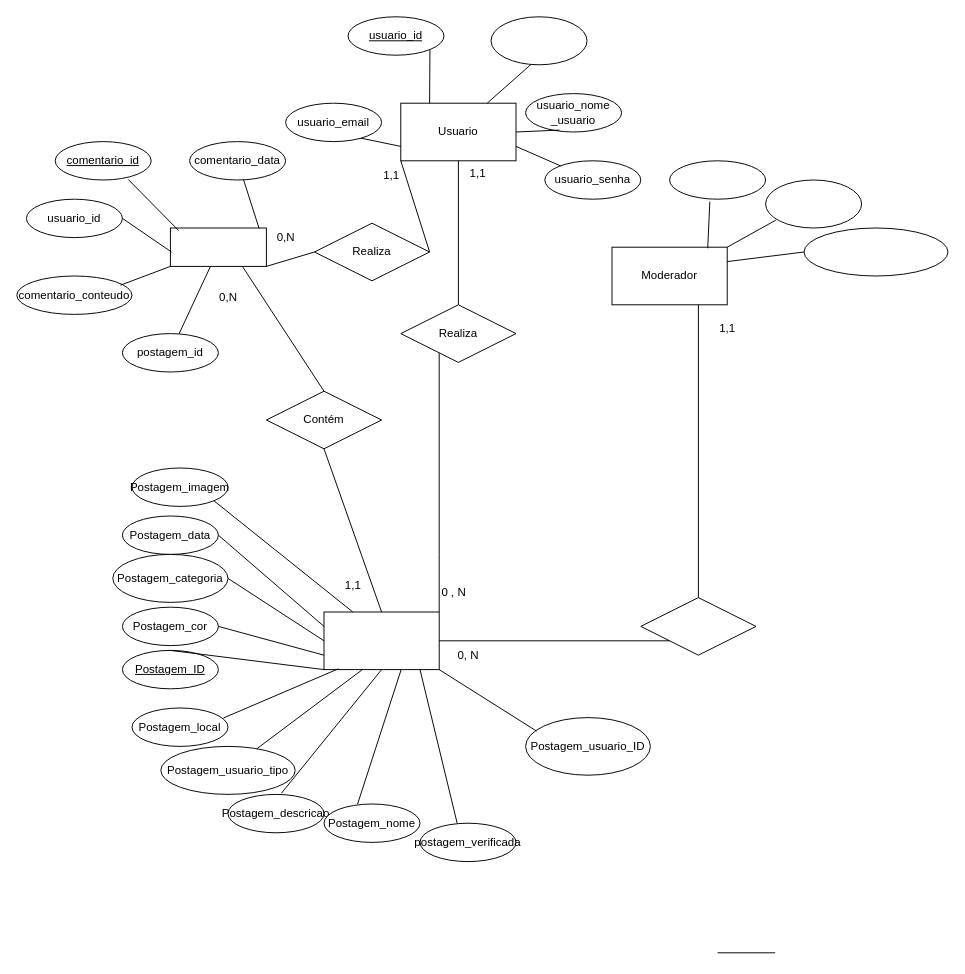
Image size: 965x974. Some labels were removed from this diagram. The shapes that lost their labels are listed below. From the top down, each one's centre as x and y in pixels, then its label:
the point at 538,40: usuario_nome
the point at 717,179: Moderador_ID
the point at 813,203: moderador_senha
the point at 217,246: Comentarios
the point at 875,251: moderador_nome_usuario
the point at 381,640: Postagem
the point at 698,626: Verifica
